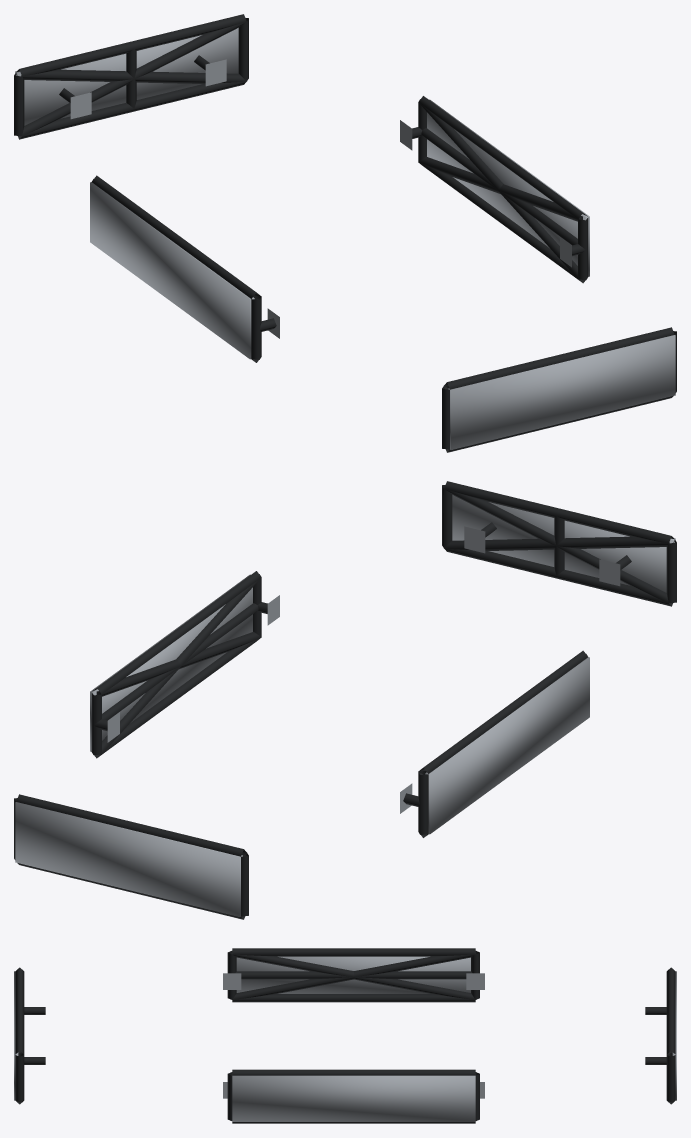
File: feldhaus_nimbo_protecao.glb
3 views of the same model, one above another, from view 1: azimuth 30°, elevation 25°; view 2: azimuth 150°, elevation 25°; view 3: azimuth 270°, elevation 25° (orthographic). The views are drawn at different scales.
Parts seen in each view (by area): view 1: Protection_front_Level3_Details, Protection_left_Level3_Details, Protection_rear_Level1_Details, Protection_rear_Level3_Details, Protection_right_Level1_Details, Protection_rear_Level2_Details, Protection_right_Level2_Details, Protection_right_Level3_Details, Protection_front_Level1_Details, Protection_left_Level1_Details; view 2: Protection_rear_Level3_Details, Protection_left_Level3_Details, Protection_front_Level1_Details, Protection_front_Level3_Details, Protection_right_Level1_Details, Protection_front_Level2_Details, Protection_right_Level2_Details, Protection_right_Level3_Details, Protection_rear_Level1_Details, Protection_left_Level1_Details; view 3: Protection_right_Level3_Details, Protection_left_Level1_Details, Protection_left_Level2_Details, Protection_left_Level3_Details, Protection_right_Level1_Details, Protection_rear_Level1_Details, Protection_front_Level1_Details.
Boxes of the visible parts, x1,y1,x2,y2 form: Protection_front_Level3_Details: (448, 335, 675, 449); Protection_left_Level3_Details: (90, 182, 254, 359); Protection_rear_Level1_Details: (14, 14, 248, 139); Protection_rear_Level3_Details: (15, 28, 238, 125); Protection_right_Level1_Details: (400, 96, 588, 283); Protection_rear_Level2_Details: (16, 22, 246, 138); Protection_right_Level2_Details: (418, 103, 587, 282); Protection_right_Level3_Details: (427, 99, 589, 276); Protection_front_Level1_Details: (442, 327, 676, 452); Protection_left_Level1_Details: (92, 175, 279, 362); Protection_rear_Level3_Details: (15, 802, 242, 916); Protection_left_Level3_Details: (425, 657, 589, 834); Protection_front_Level1_Details: (442, 481, 676, 606); Protection_front_Level3_Details: (452, 495, 675, 592); Protection_right_Level1_Details: (91, 571, 279, 758); Protection_front_Level2_Details: (444, 489, 674, 605); Protection_right_Level2_Details: (92, 578, 261, 757); Protection_right_Level3_Details: (90, 574, 252, 751); Protection_rear_Level1_Details: (14, 794, 248, 919); Protection_left_Level1_Details: (400, 650, 587, 837); Protection_right_Level3_Details: (232, 1075, 475, 1121); Protection_left_Level1_Details: (223, 948, 484, 1002); Protection_left_Level2_Details: (231, 951, 475, 999); Protection_left_Level3_Details: (236, 956, 470, 993); Protection_right_Level1_Details: (223, 1069, 484, 1123); Protection_rear_Level1_Details: (645, 967, 675, 1104); Protection_front_Level1_Details: (15, 967, 45, 1104).
Bounding box in the file's own units: 1.78 × 0.354 × 3.95.
1 material, 1 textured.
